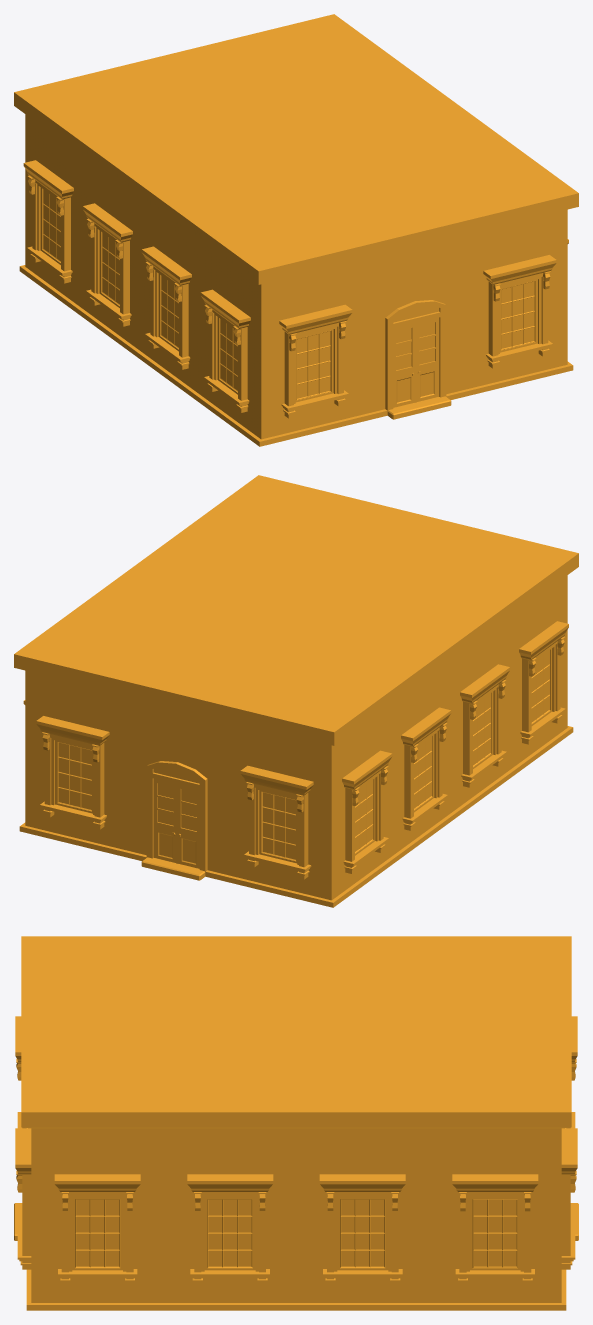
Rendered from SM_Floor_Bottom_Round_Door_As_Steampunk.fbx.
The picture shows the model from 3 angles, top to bottom: view 1: azimuth 30°, elevation 25°; view 2: azimuth 150°, elevation 25°; view 3: azimuth 270°, elevation 25°; orthographic projection. The views are drawn at different scales.
Visible parts, largest first — view 1: floor-bottom-round-door-as-steampunk; view 2: floor-bottom-round-door-as-steampunk; view 3: floor-bottom-round-door-as-steampunk.
Part boxes in pixels (x1=…): floor-bottom-round-door-as-steampunk: x1=14, y1=14, x2=578, y2=446; floor-bottom-round-door-as-steampunk: x1=14, y1=475, x2=578, y2=907; floor-bottom-round-door-as-steampunk: x1=14, y1=936, x2=578, y2=1310.
Size of the model in its own units: 9.71 by 5 by 12.79.
